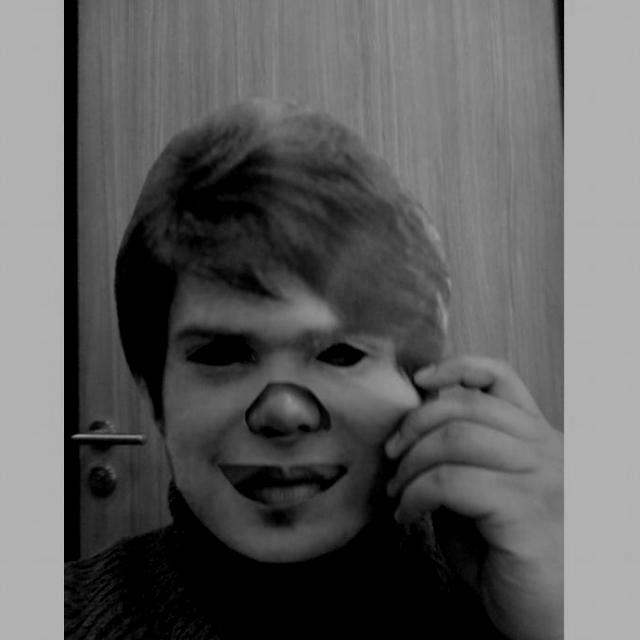fake: (112, 97, 458, 567)
